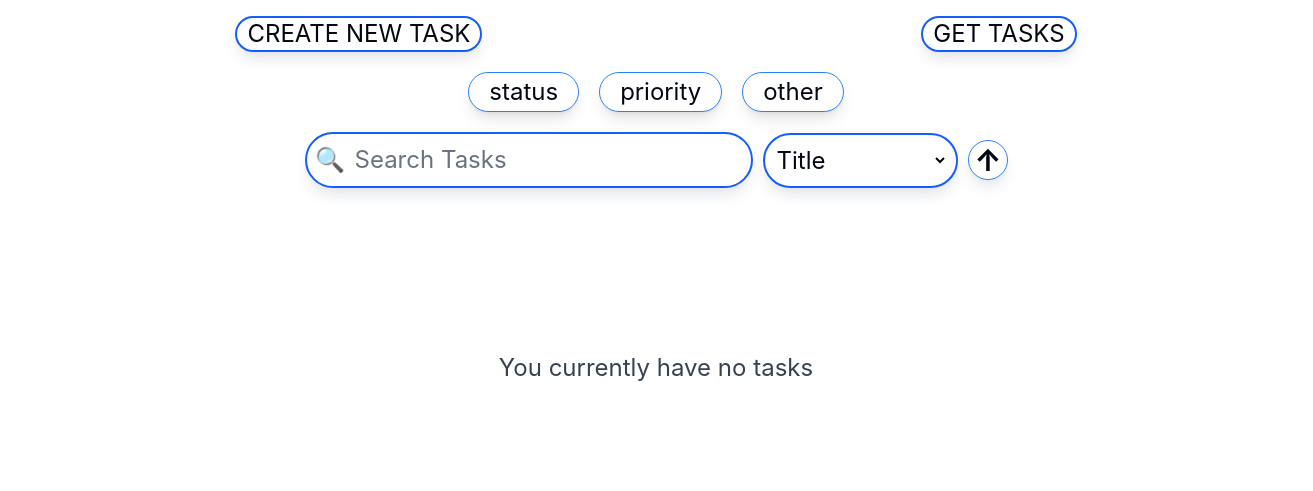
Test: sorting and filtering tasks › searching tasks
Click the button "GET TASKS".
click(999, 34)  # box [921, 16, 1077, 52]
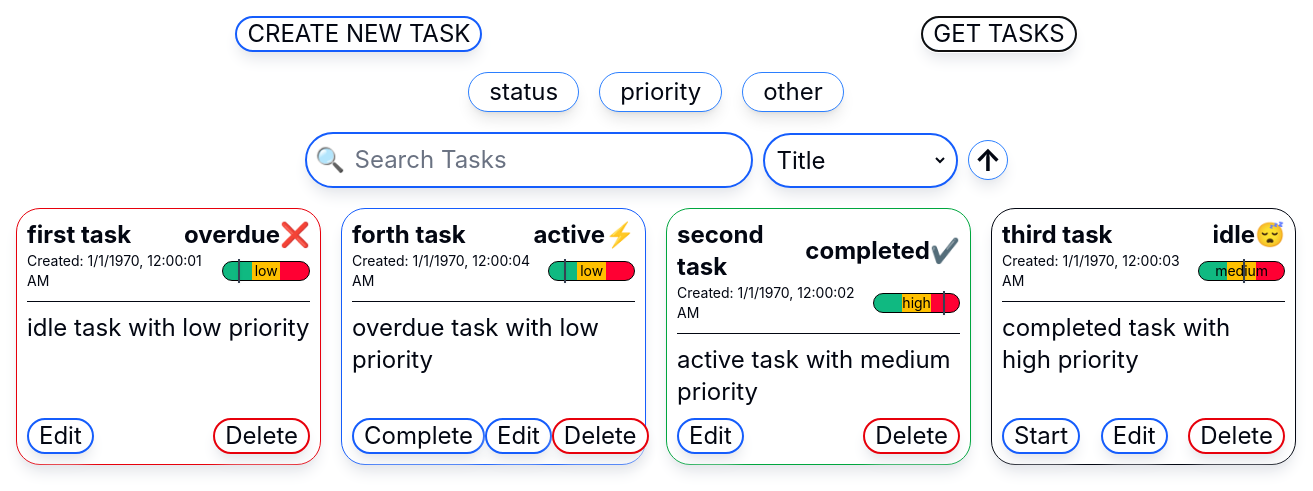
Type "first" into the field labelled "Search Tasks".
click(548, 160); type("first")  # box [354, 144, 742, 176]
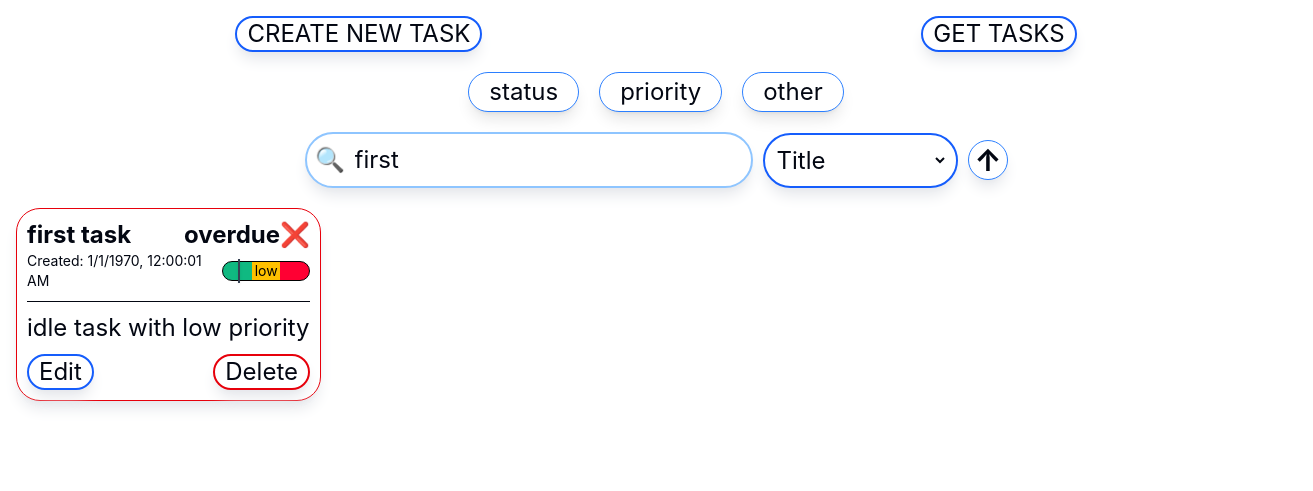
Expected: the heading "first task" is shown, [27, 219, 131, 251]
Expected: the heading "second" is gone
